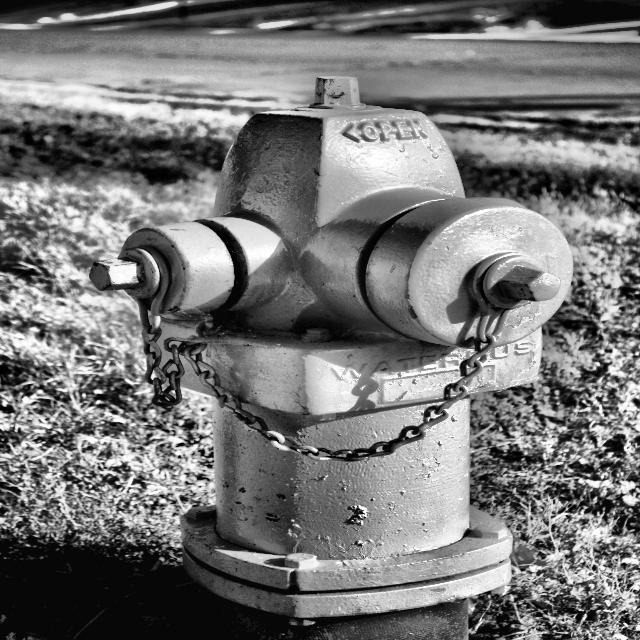fire hydrant: (50, 72, 590, 614)
